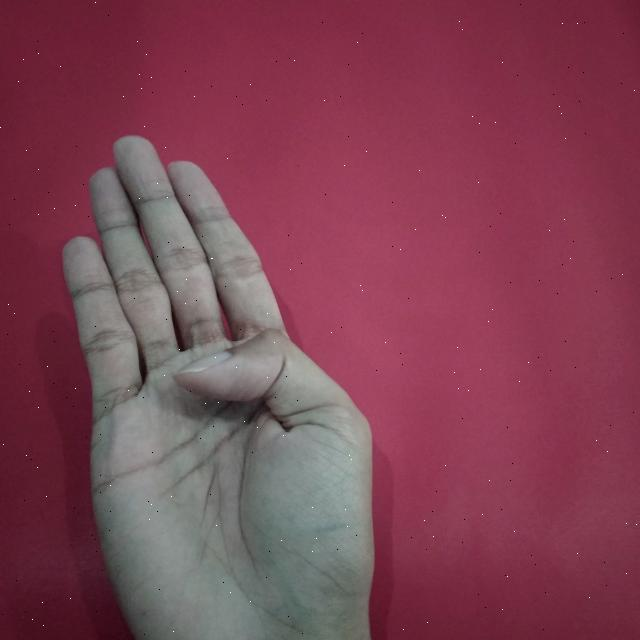B: (58, 130, 388, 640)
